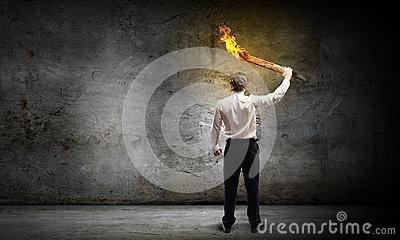fire: (218, 24, 243, 57)
